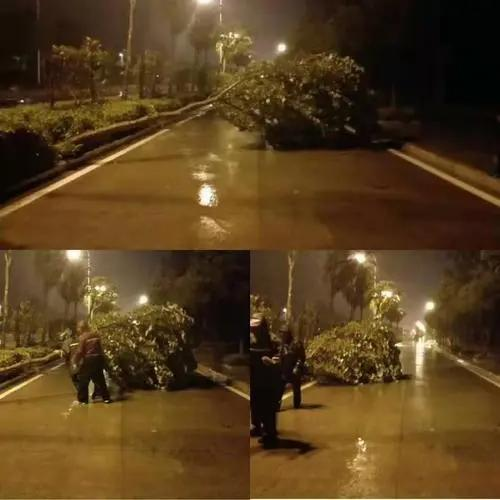Downstairs: (53, 48, 394, 152), (2, 279, 198, 391), (247, 311, 409, 390)
